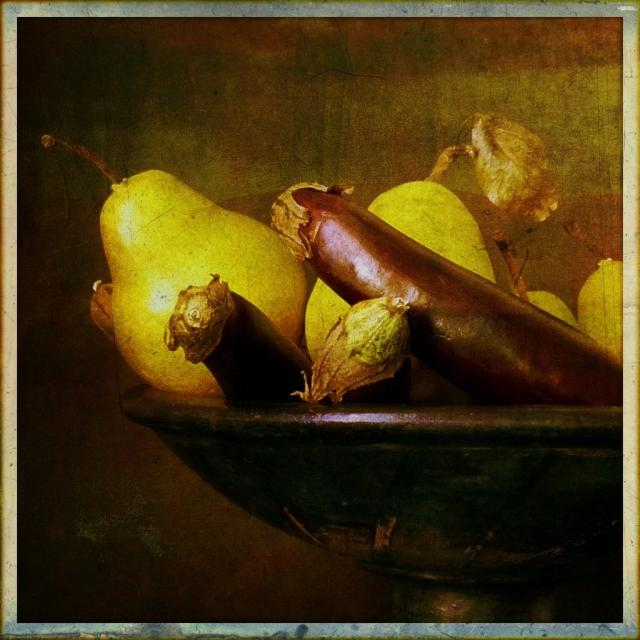pear: (40, 140, 310, 399), (303, 143, 499, 360), (569, 221, 625, 366), (509, 241, 580, 328)
